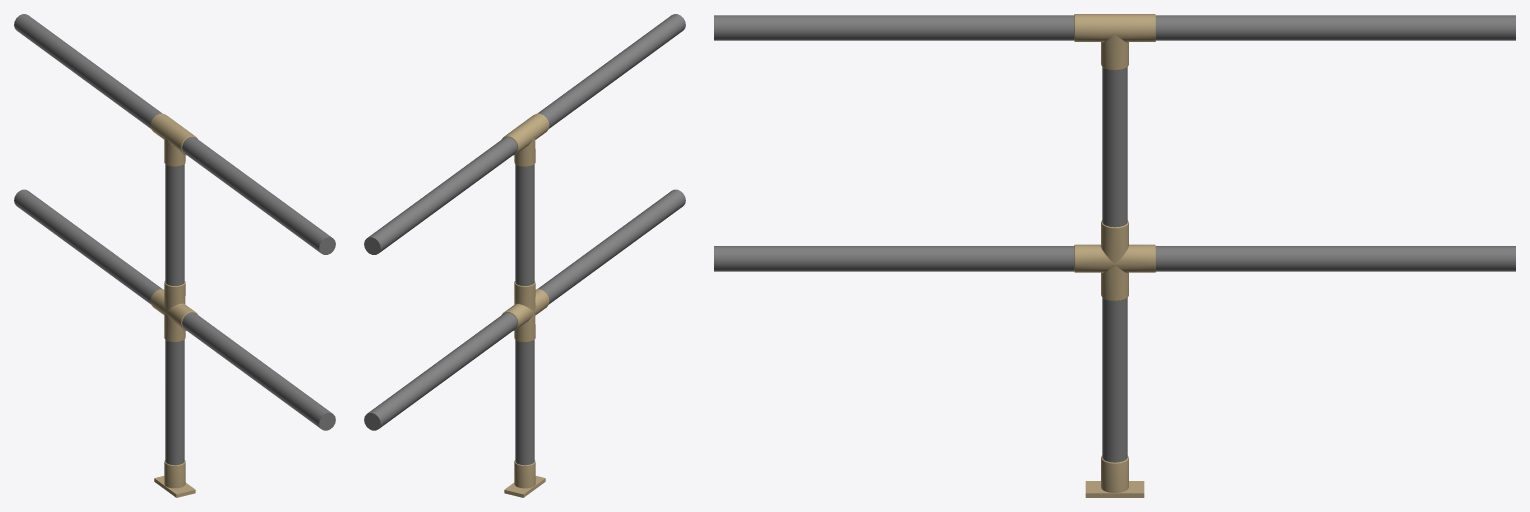
Rendered from rail_high.fbx.
The picture shows the model from 3 angles, left to right: view 1: azimuth 30°, elevation 25°; view 2: azimuth 150°, elevation 25°; view 3: azimuth 270°, elevation 25°; orthographic projection. The views are drawn at different scales.
Parts seen in each view (by area): view 1: Cylinder017; view 2: Cylinder017; view 3: Cylinder017.
Boxes of the visible parts, x1,y1,x2,y2 form: Cylinder017: (14, 14, 335, 497); Cylinder017: (364, 14, 685, 497); Cylinder017: (714, 14, 1515, 497).
Bounding box in the file's own units: 2.3 × 41.3 × 63.
